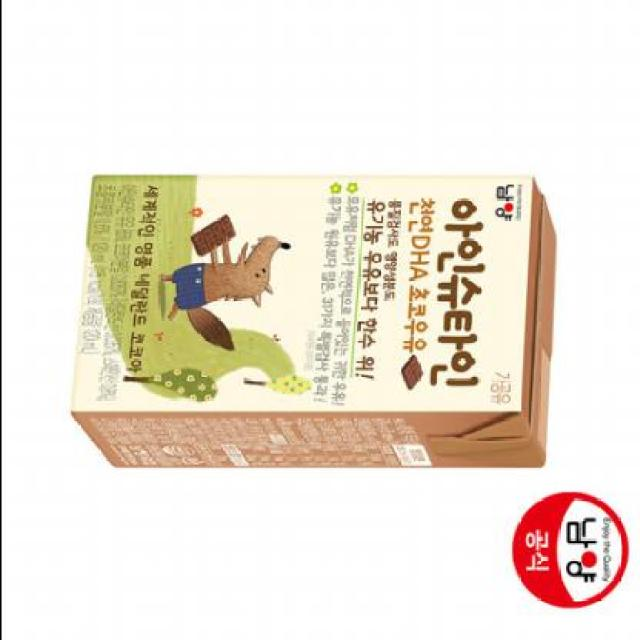tetra: (49, 155, 572, 478)
